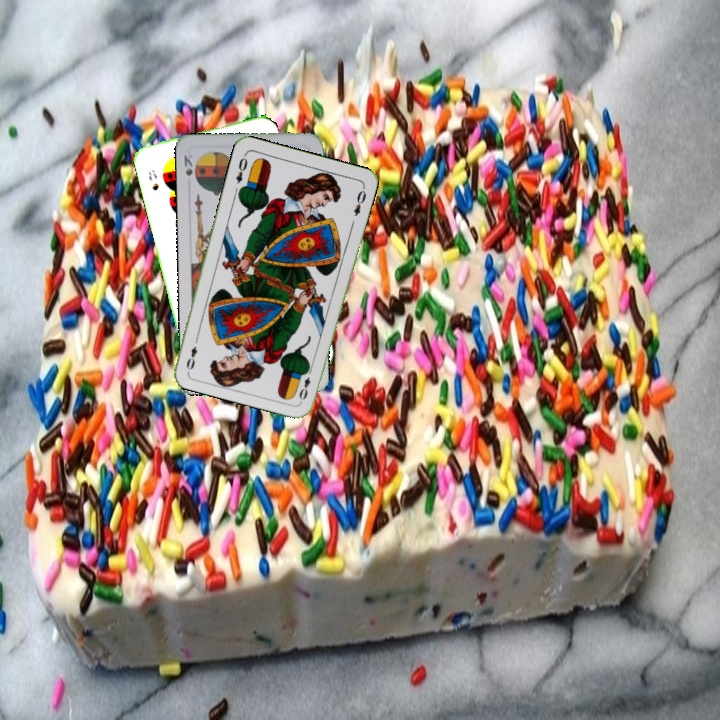EO: (295, 364, 315, 403), (231, 153, 250, 186)
S8: (144, 165, 161, 193)
SK: (180, 150, 199, 186)
